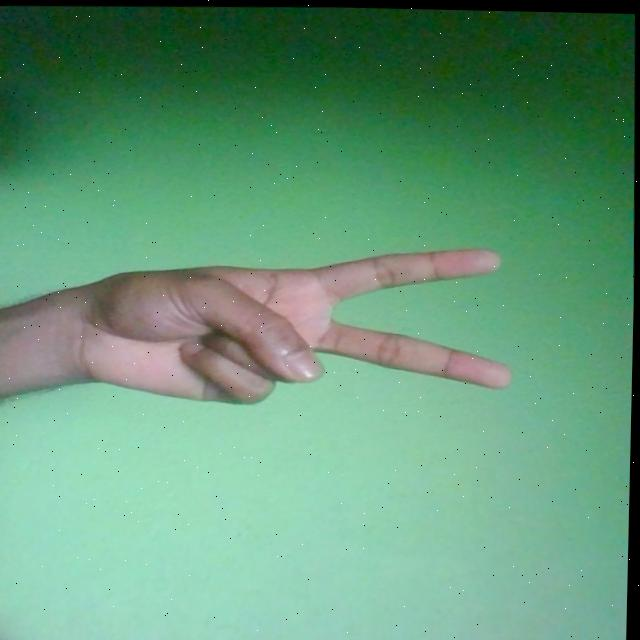Peace: (62, 236, 518, 412)
